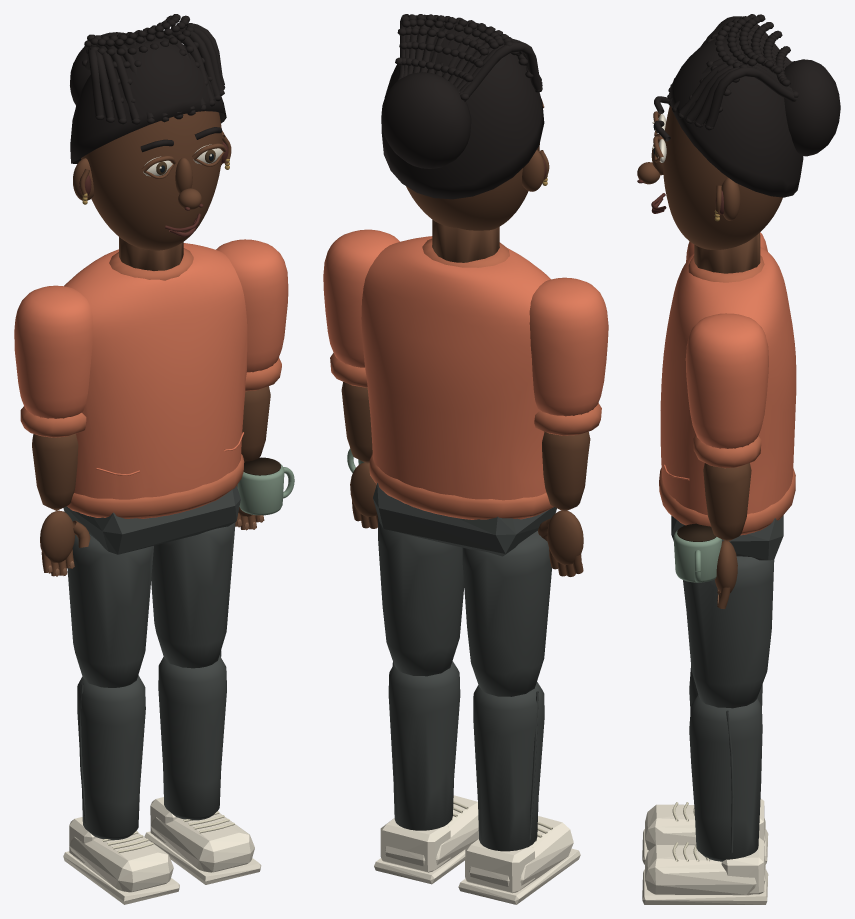
Rendered from june.glb.
3 renders of one model, left to right at view 1: azimuth 30°, elevation 25°; view 2: azimuth 150°, elevation 25°; view 3: azimuth 270°, elevation 25°, orthographic. The views are drawn at different scales.
Parts seen in each view (by area): view 1: June_Sweater, June_Brow, June_Face, June_Upper trouserL, June_Upper trouserR, June_Lower trouserL, June_Lower trouserR, June_SleeveL, June_SleeveR, June_ShoeL, June_ShoeR, June_Pelvis (+8 smaller); view 2: June_Sweater, June_Brow, June_Upper trouserL, June_Upper trouserR, June_Lower trouserL, June_Lower trouserR, June_SleeveL, June_ShoeL, June_SleeveR, June_ShoeR, June_Pelvis, June_Hem (+8 smaller); view 3: June_Brow, June_Sweater, June_Lower trouserR, June_Upper trouserR, June_SleeveR, June_Face, June_ShoeR, June_Forearm skinR, June_Hem, June_ShoeL, June_Ceramic cup, June_Neck (+4 smaller).
Part boxes in pixels (<box>): June_Sweater: <box>64,243,247,518</box>; June_Brow: <box>70,14,226,163</box>; June_Face: <box>73,111,231,250</box>; June_Upper trouserL: <box>67,534,153,687</box>; June_Upper trouserR: <box>151,522,235,668</box>; June_Lower trouserL: <box>77,675,145,840</box>; June_Lower trouserR: <box>158,650,226,820</box>; June_SleeveL: <box>14,285,93,418</box>; June_SleeveR: <box>216,239,288,372</box>; June_ShoeL: <box>63,817,179,904</box>; June_ShoeR: <box>144,797,261,884</box>; June_Pelvis: <box>63,485,240,554</box>; June_Sweater: <box>361,236,550,519</box>; June_Brow: <box>381,14,544,199</box>; June_Upper trouserL: <box>462,531,551,696</box>; June_Upper trouserR: <box>378,517,464,676</box>; June_Lower trouserL: <box>473,682,544,851</box>; June_Lower trouserR: <box>388,661,460,830</box>; June_SleeveL: <box>529,277,608,416</box>; June_ShoeL: <box>458,816,580,904</box>; June_SleeveR: <box>323,229,399,367</box>; June_ShoeR: <box>374,795,478,884</box>; June_Pelvis: <box>373,483,556,556</box>; June_Hem: <box>369,238,553,519</box>; June_Brow: <box>654,14,840,197</box>; June_Sweater: <box>660,247,796,535</box>; June_Lower trouserR: <box>689,695,762,861</box>; June_Upper trouserR: <box>683,556,774,708</box>; June_SleeveR: <box>685,313,768,448</box>; June_Face: <box>637,106,782,249</box>; June_ShoeR: <box>642,837,768,904</box>; June_Forearm skinR: <box>703,463,751,541</box>; June_Hem: <box>659,255,795,534</box>; June_ShoeL: <box>642,798,768,864</box>; June_Ceramic cup: <box>673,530,721,582</box>; June_Neck: <box>694,232,760,273</box>.
Bounding box in the file's own units: 0.6823 × 2.03 × 0.449.
